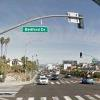Crosswalk: (15, 89, 95, 100)
